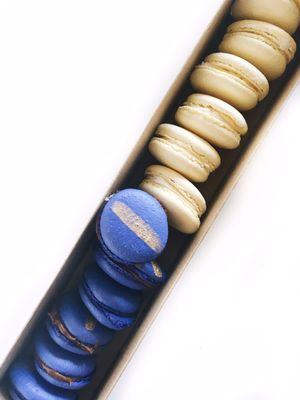pasta: (147, 123, 221, 184), (175, 93, 248, 150)
